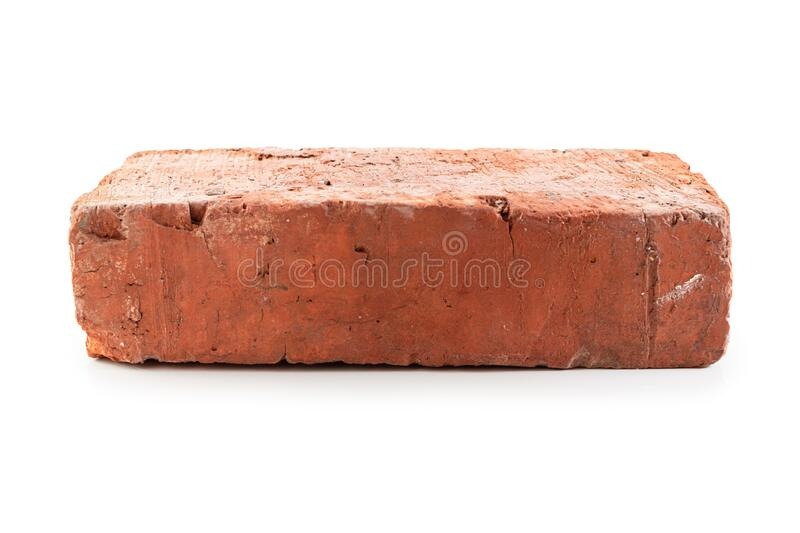brick: (77, 200, 725, 361)
